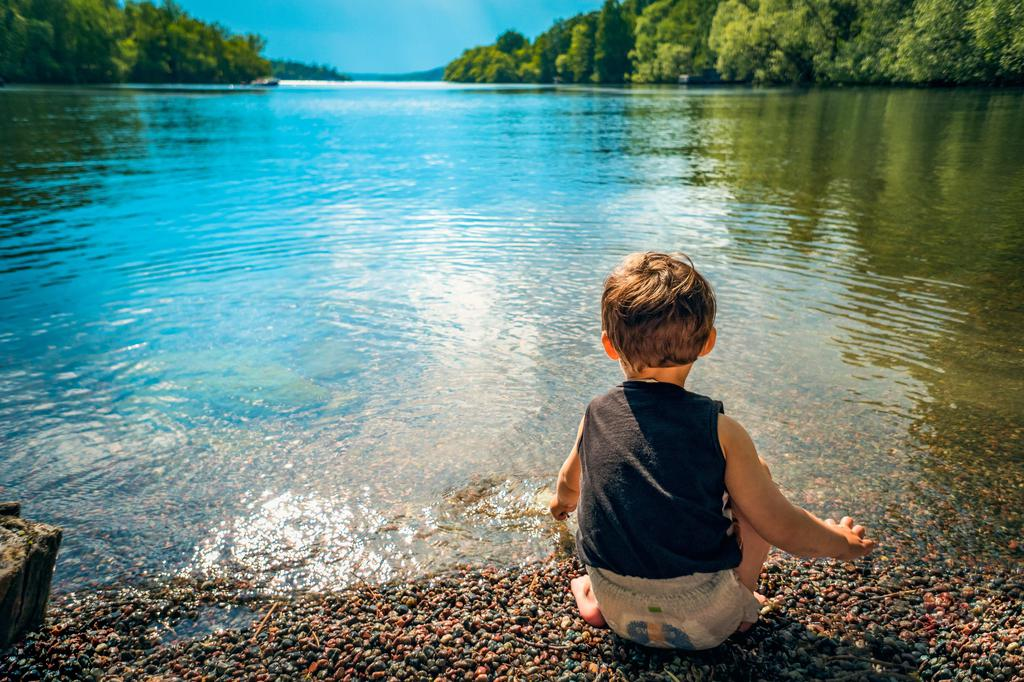child: (518, 246, 899, 646)
